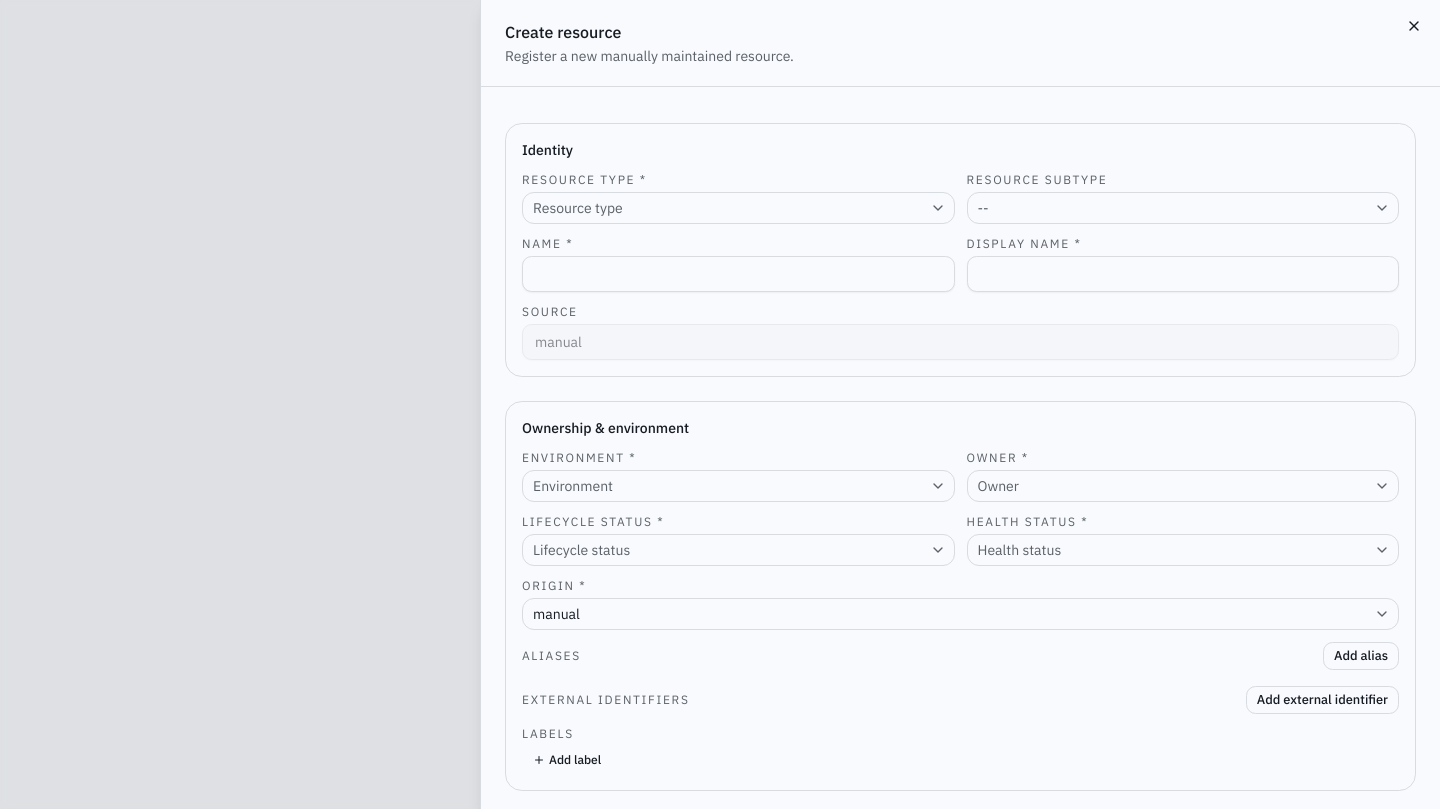
CreateResourceSheet › shows required IP Address field for Virtual IP
What coordinates should you click on to do the following:
click the dropdown labelled "Resource type ▼"
I would click on:
 (578, 208)
Its box is [522,192,954,224].
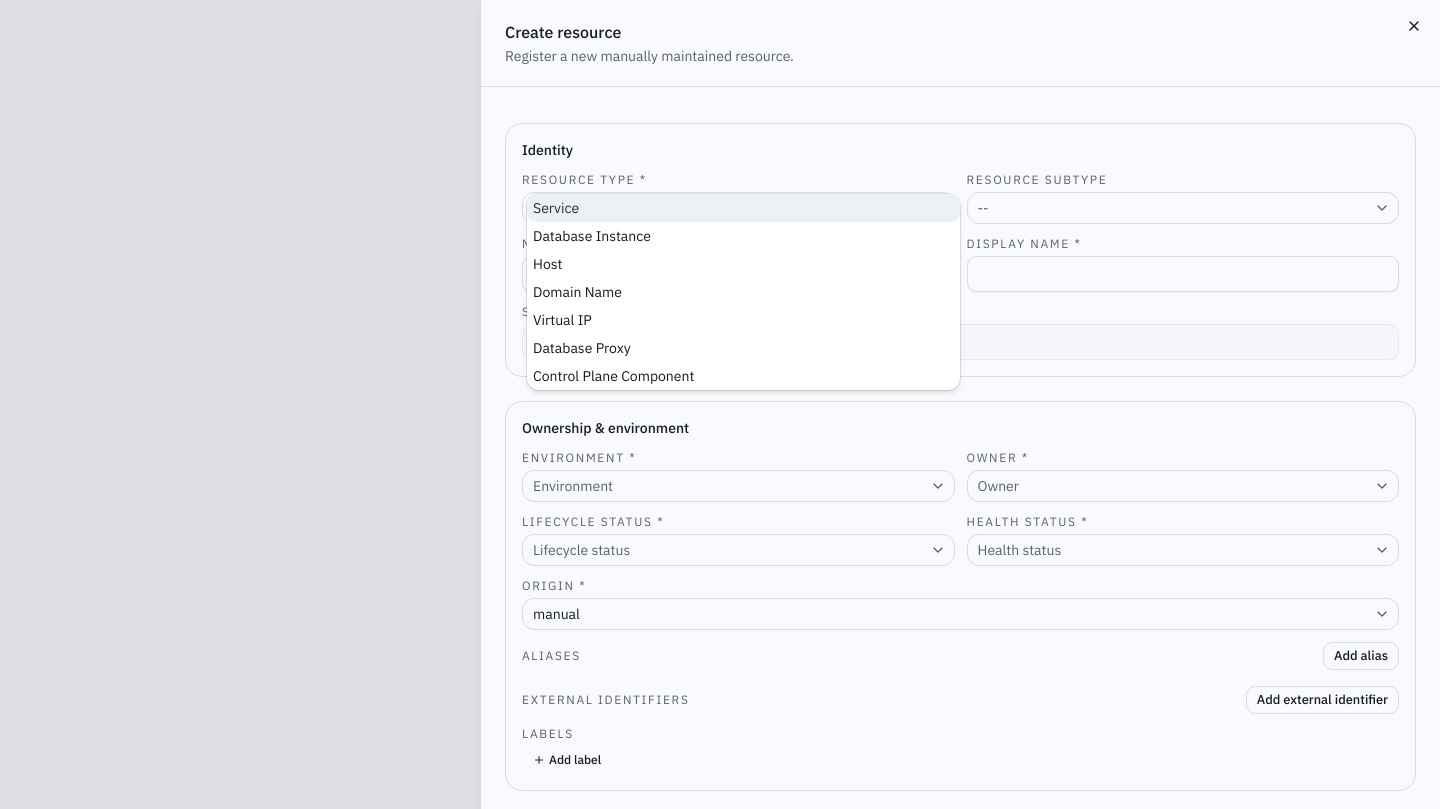
What coordinates should you click on to do the following:
click the option "Virtual IP"
I would click on:
 (562, 320)
Its box is [533,311,592,329].
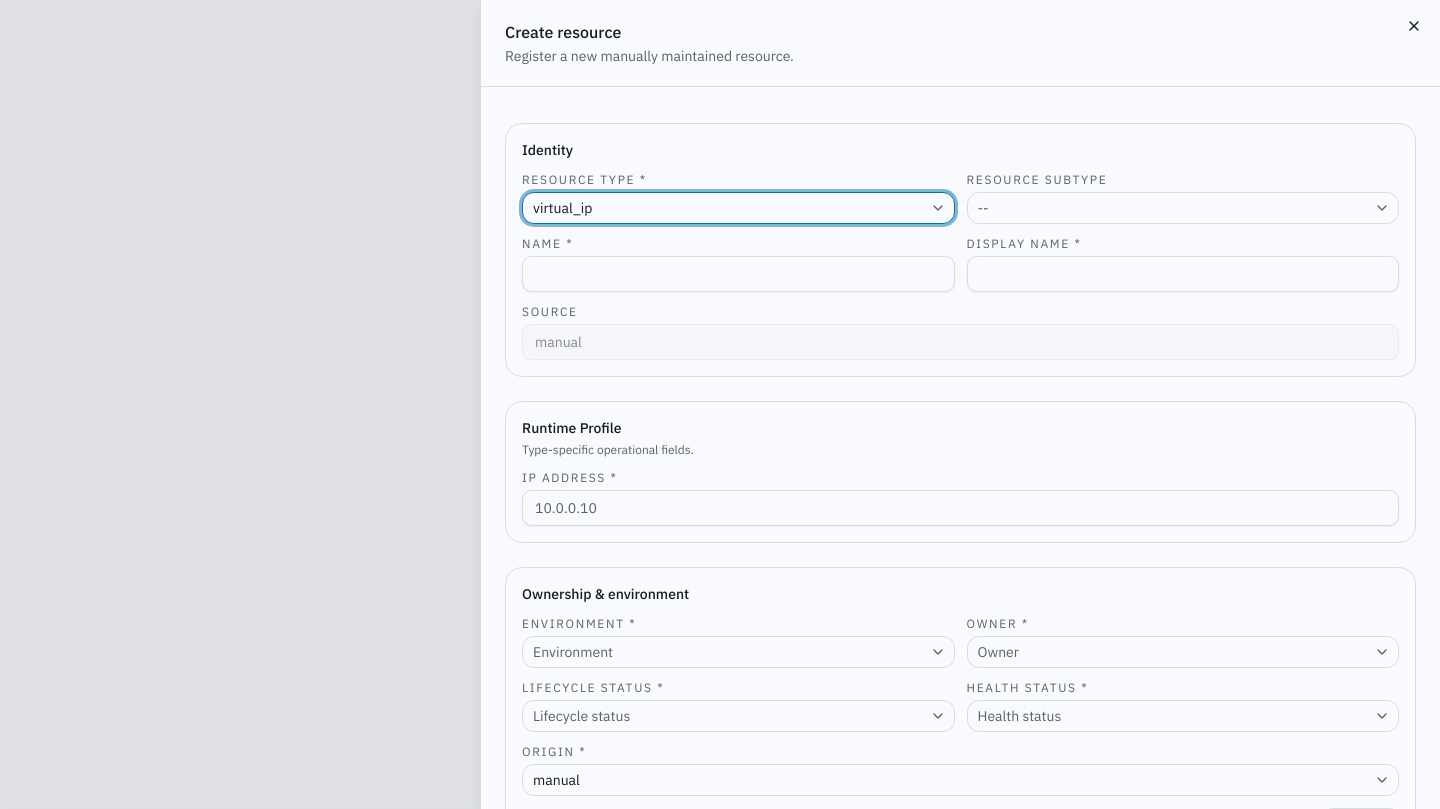
Check: the heading "Runtime Profile" is shown, box [522,419,622,437]
Check: the text "IP Address *" is shown, box [522,470,618,485]
